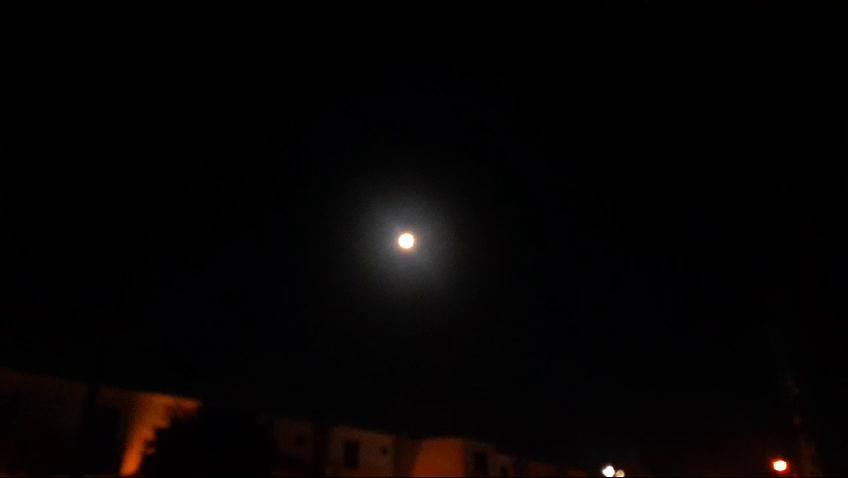moon: (396, 226, 418, 251)
